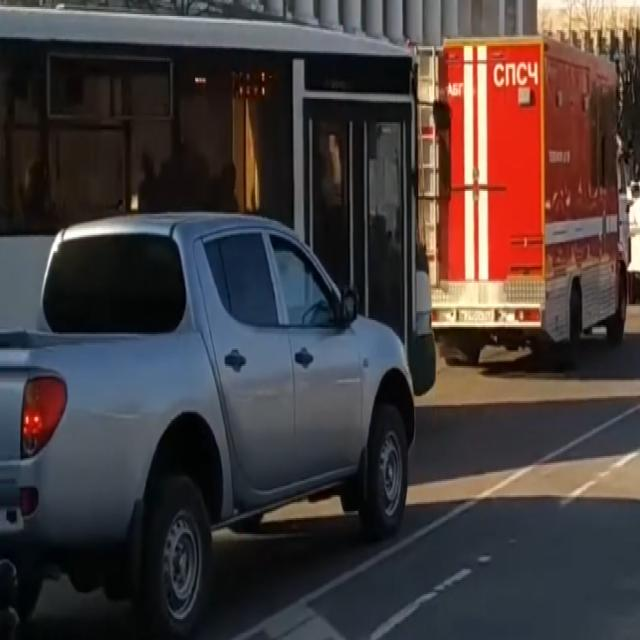fire fighting vehicle: (412, 32, 629, 368)
non emergency car: (1, 209, 417, 640), (1, 5, 437, 408)
